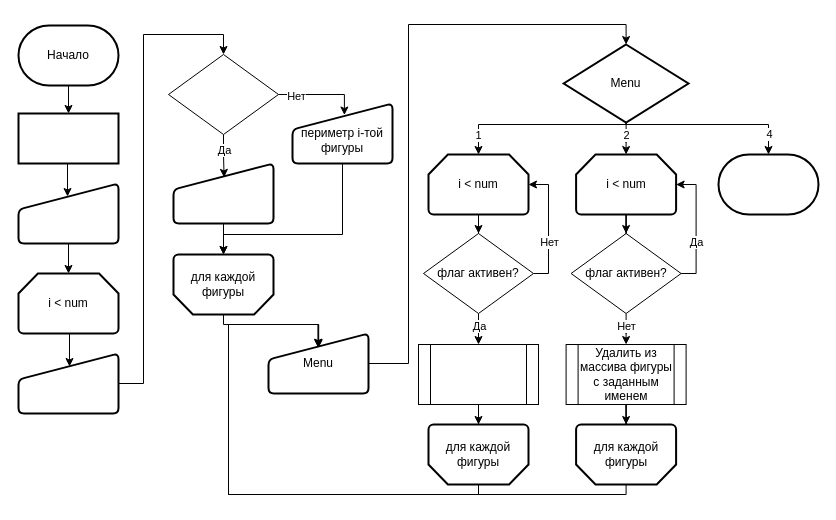
This 836x520 diagram has some shape labels left out. Here are the shapes that lost their labels. From the top down, the centre of each, then its label:
the point at 223,94: ввод цвета?
the point at 68,138: Инициализровать массив структур
the point at 223,193: цвет i-той фигуры
the point at 768,184: Конец
the point at 68,213: количество фигур (num)
the point at 68,383: имя i-той фигуры
the point at 478,374: Фильтровать по периметру
